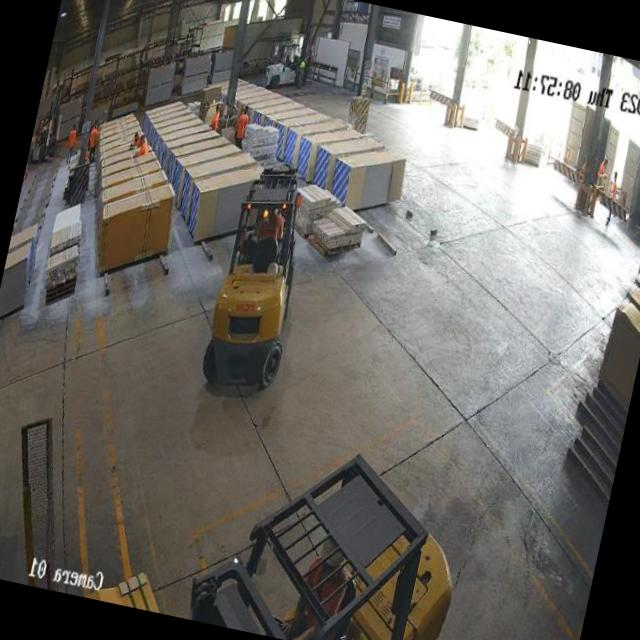driver: (278, 529, 357, 640), (254, 199, 287, 250)
forklift: (181, 416, 480, 640), (192, 148, 323, 412)
person: (232, 103, 250, 148), (64, 124, 78, 162), (86, 122, 100, 157), (608, 169, 621, 200), (209, 104, 221, 131), (136, 136, 148, 159), (596, 157, 608, 178)
